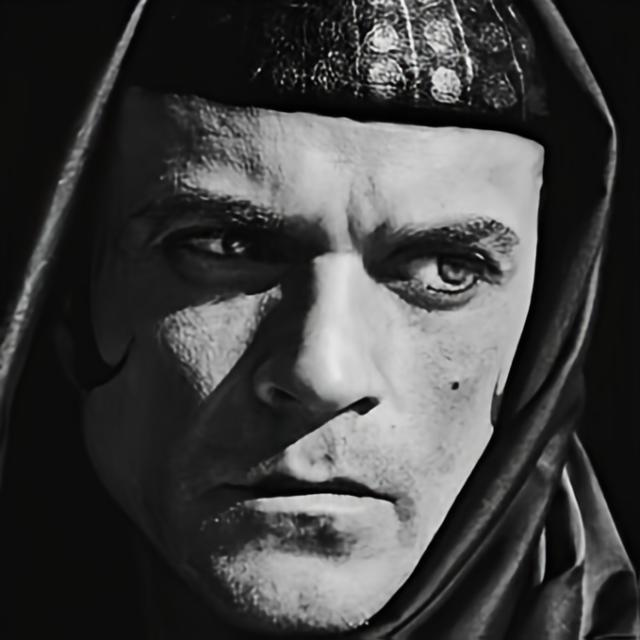anger: (87, 71, 540, 628)
